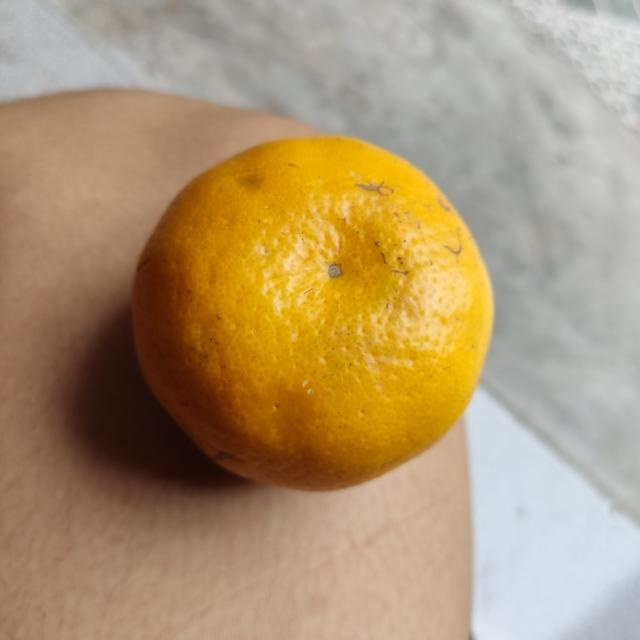agrume: (126, 127, 495, 494)
